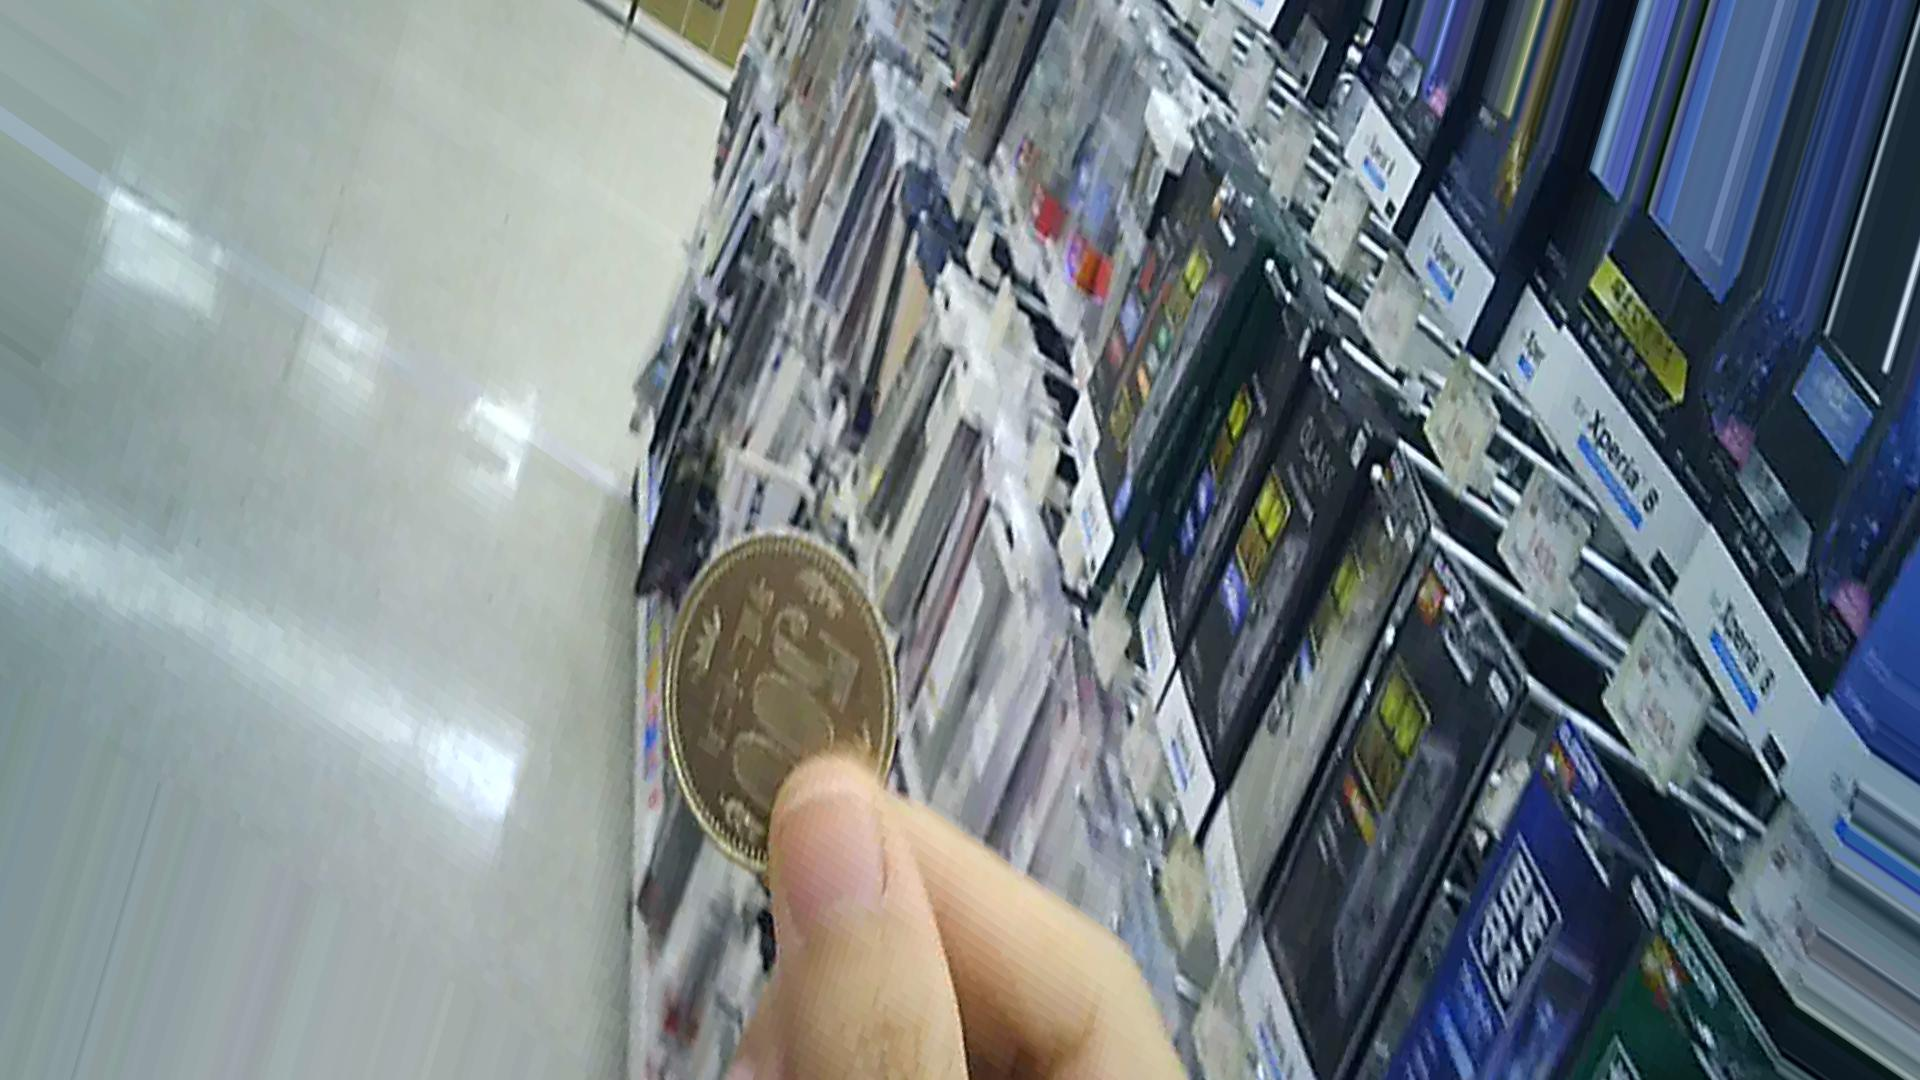500 Yen: (665, 521, 891, 855)
